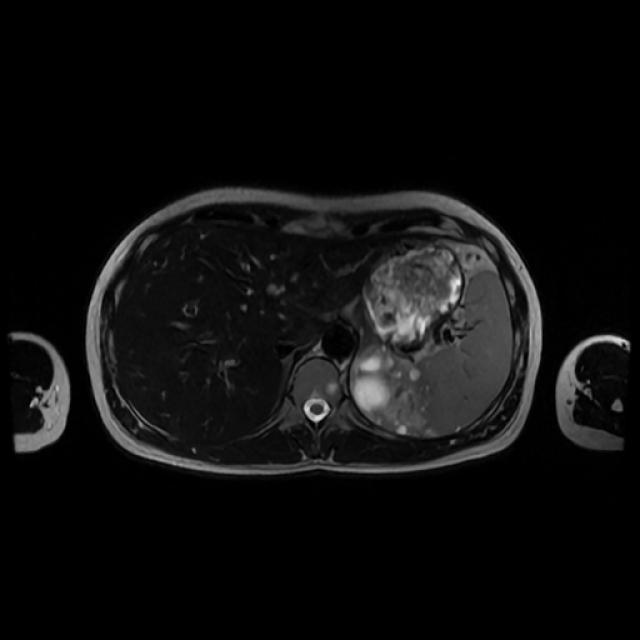sol: (355, 348, 429, 435)
